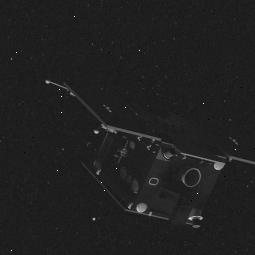proba_2: (34, 68, 255, 230)
